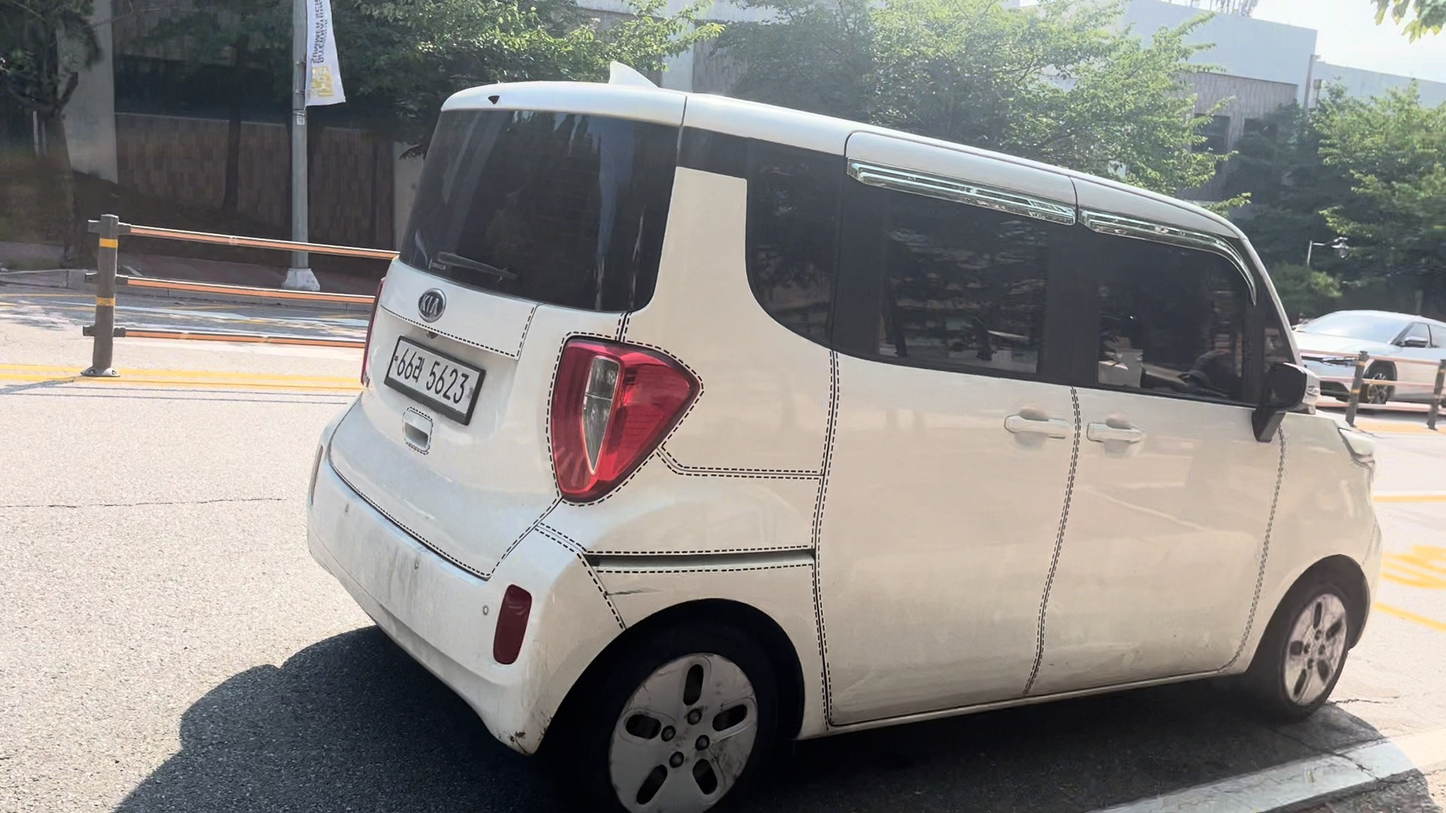car_emblem: (410, 291, 446, 327)
door_handle: (1005, 415, 1072, 437), (1085, 422, 1145, 443)
license_plate: (384, 337, 484, 424)
side_mirror: (1252, 362, 1319, 442)
tail_light: (550, 339, 699, 501), (493, 585, 532, 664), (359, 277, 385, 385)
